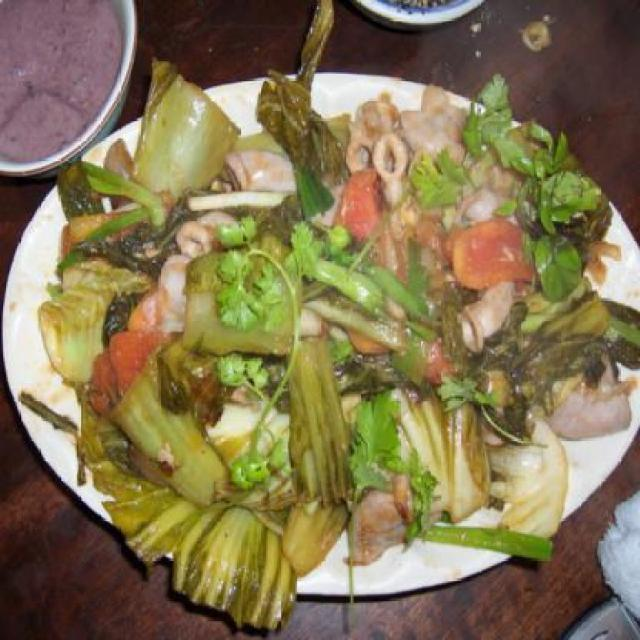Salad: (18, 0, 640, 631)
